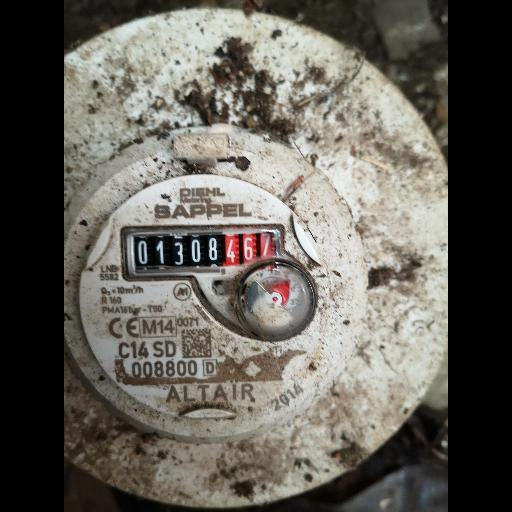0: (188, 235, 205, 270), (134, 236, 150, 271)
1: (149, 235, 170, 271)
3: (169, 235, 188, 269)
4: (223, 234, 240, 265)
6: (241, 233, 257, 265)
7: (259, 231, 275, 260)
8: (204, 235, 222, 270)
border_water_meter_number: (121, 224, 286, 281)
